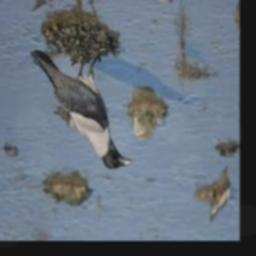Crow: (30, 49, 134, 170)
